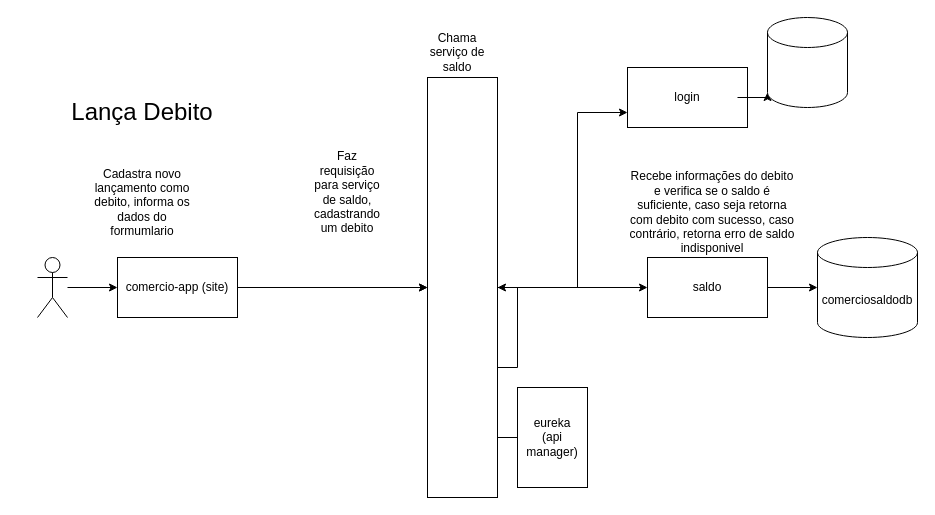
The diagram is 935 pixels wide and 515 high, and some of its shapes have lost their labels. The box of each missing label's shape, as (x1, y1, x2, y2) in pixels:
Comerciante: (36, 256, 68, 318)
comerciodb: (766, 16, 848, 108)
gateway: (426, 76, 498, 498)
